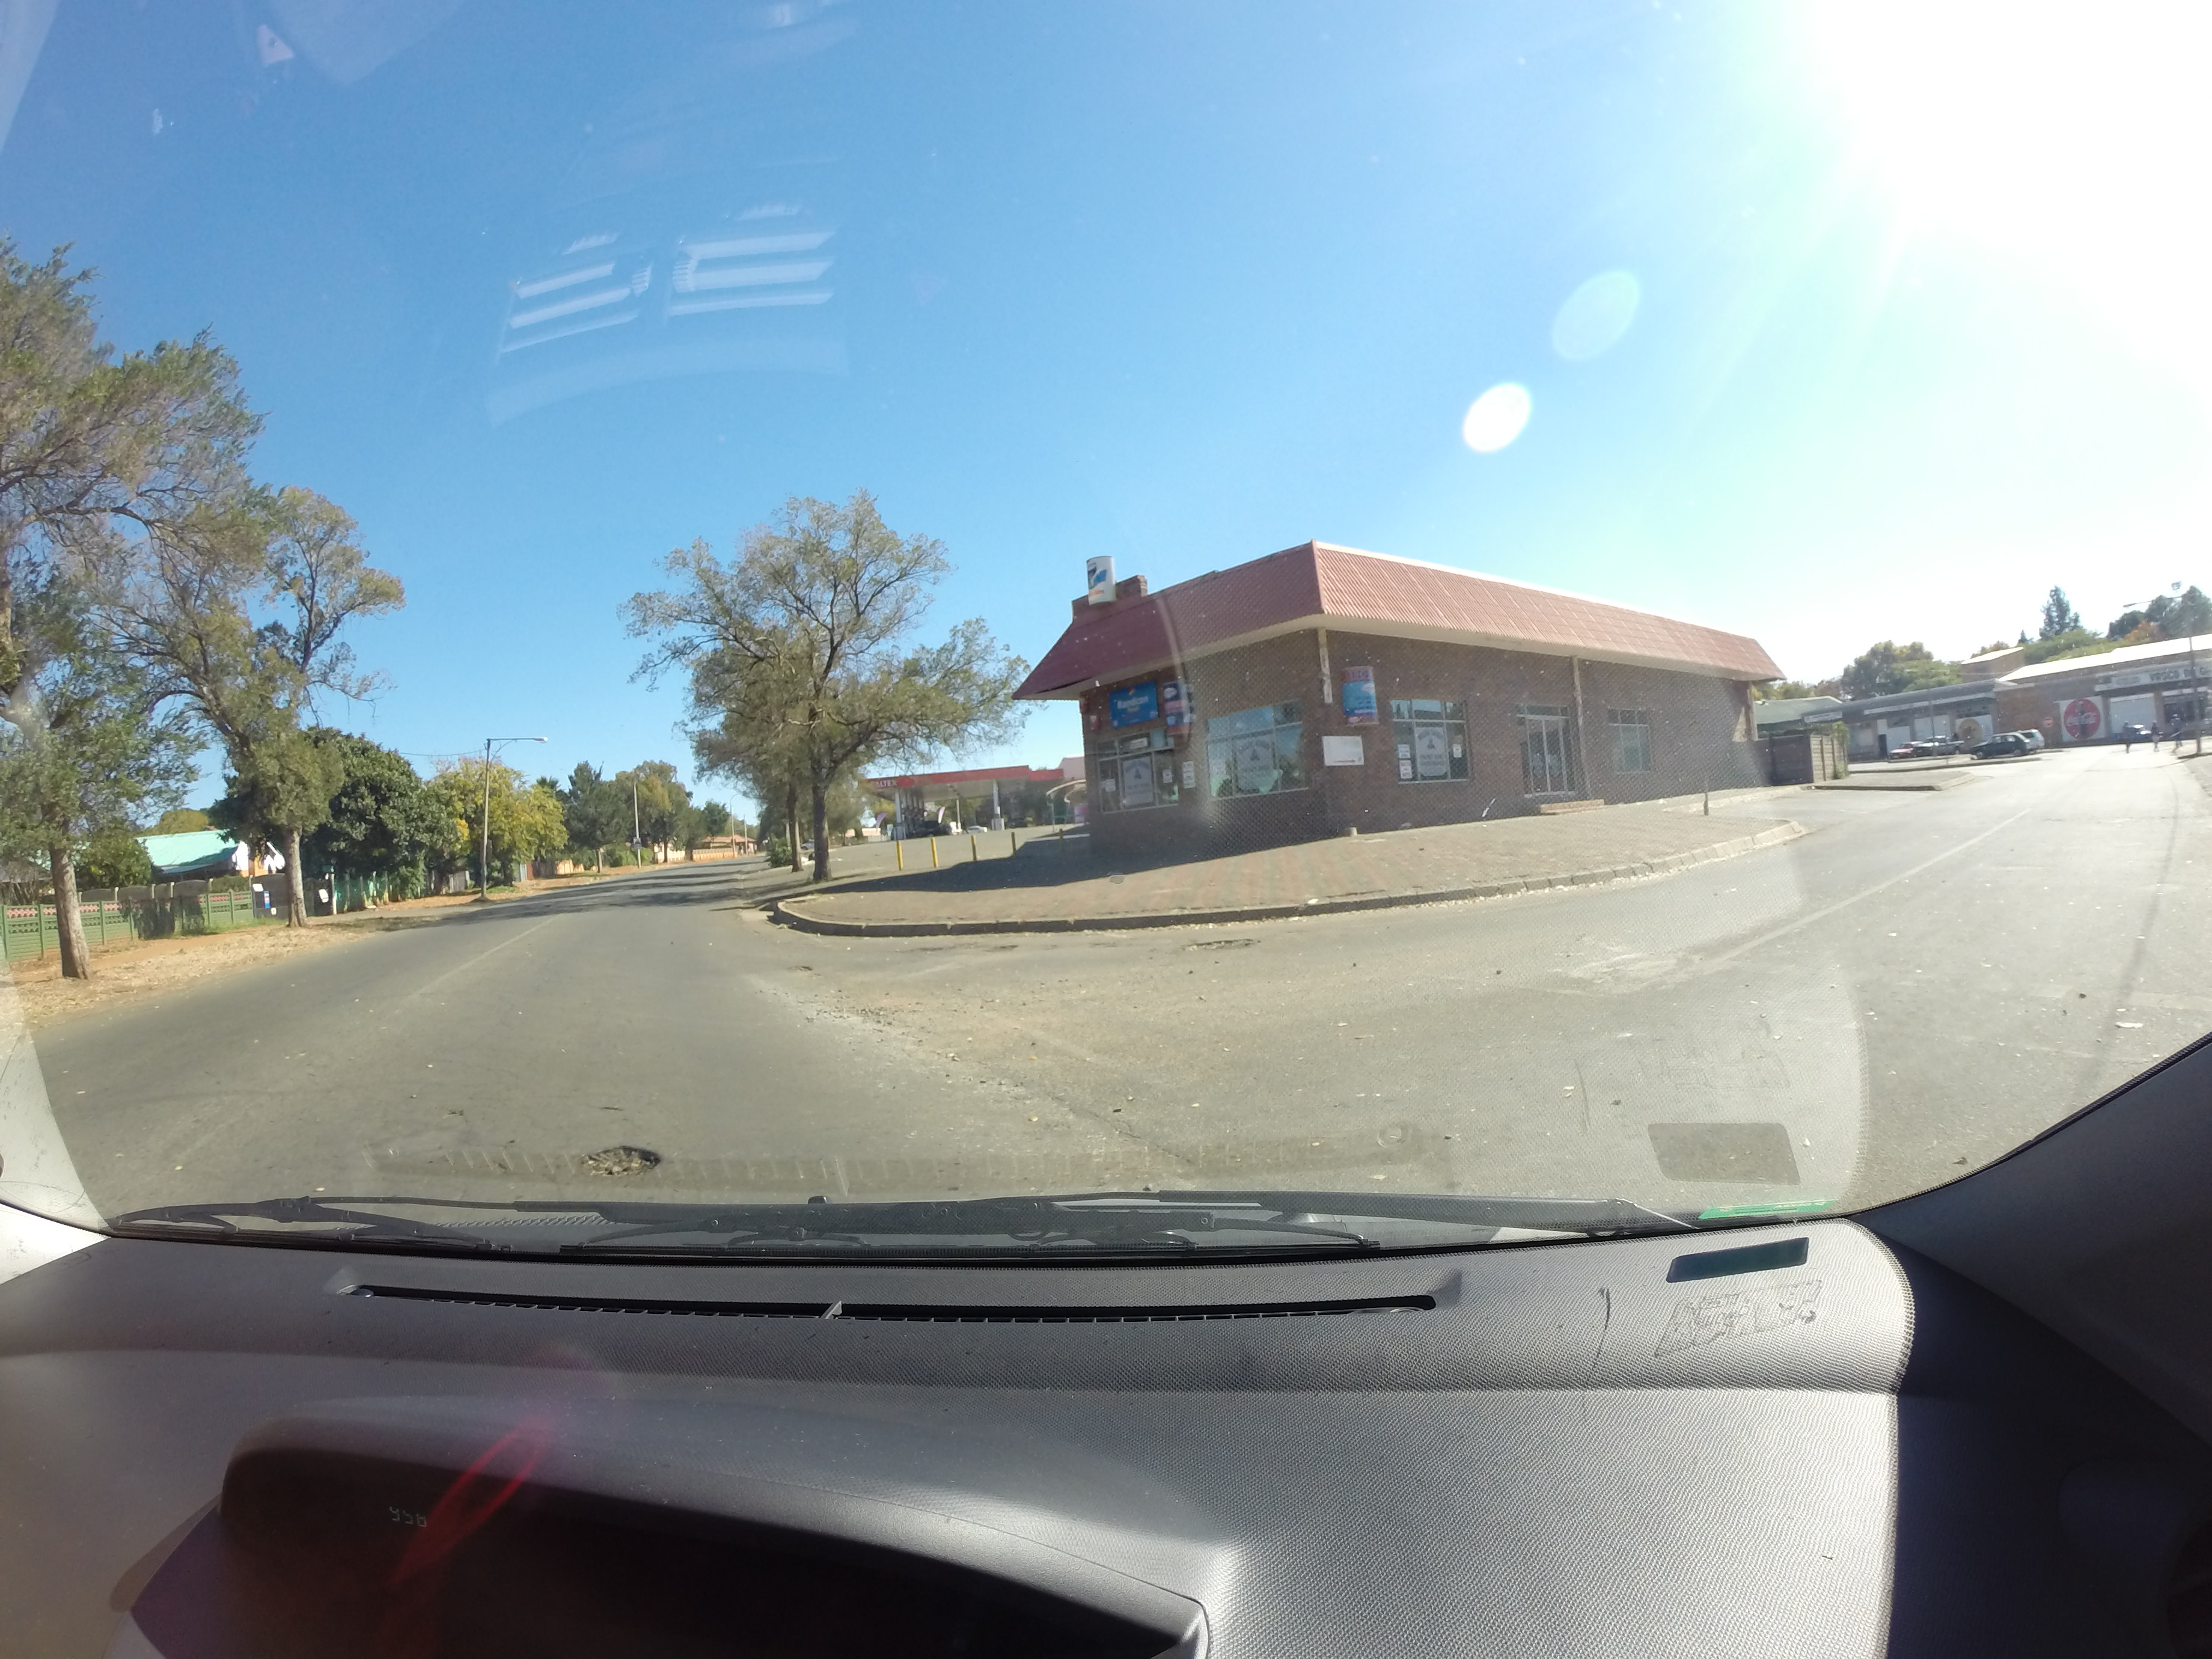pothole: (514, 1126, 712, 1208)
